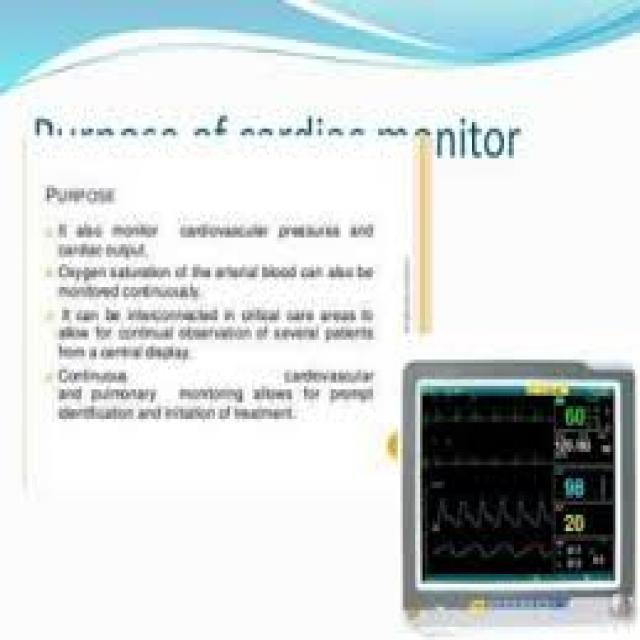cardiac_monitor: (416, 366, 629, 614)
